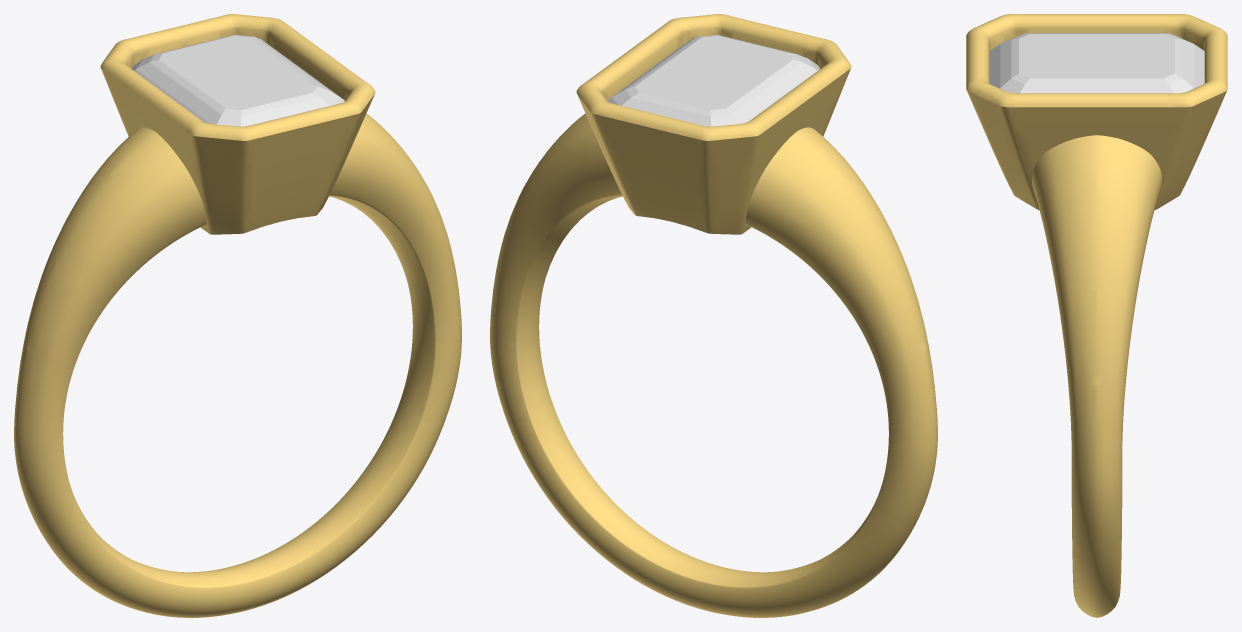
The model's file is CamV3bezel_blender.glb.
3 renders of one model, left to right at view 1: azimuth 30°, elevation 25°; view 2: azimuth 150°, elevation 25°; view 3: azimuth 270°, elevation 25°, orthographic.
Visible parts, largest first — view 1: Cam v3 bezel YG for 3d model, Cam v3 dia for 3d model; view 2: Cam v3 bezel YG for 3d model, Cam v3 dia for 3d model; view 3: Cam v3 bezel YG for 3d model, Cam v3 dia for 3d model.
Boxes of the visible parts, left/top/right/bottom form: Cam v3 bezel YG for 3d model: left=14, top=14, right=461, bottom=617; Cam v3 dia for 3d model: left=132, top=34, right=344, bottom=126; Cam v3 bezel YG for 3d model: left=490, top=14, right=937, bottom=617; Cam v3 dia for 3d model: left=607, top=34, right=819, bottom=126; Cam v3 bezel YG for 3d model: left=966, top=14, right=1227, bottom=617; Cam v3 dia for 3d model: left=989, top=33, right=1204, bottom=93.
Size of the model in its own units: 20.2 by 23.48 by 10.32.
